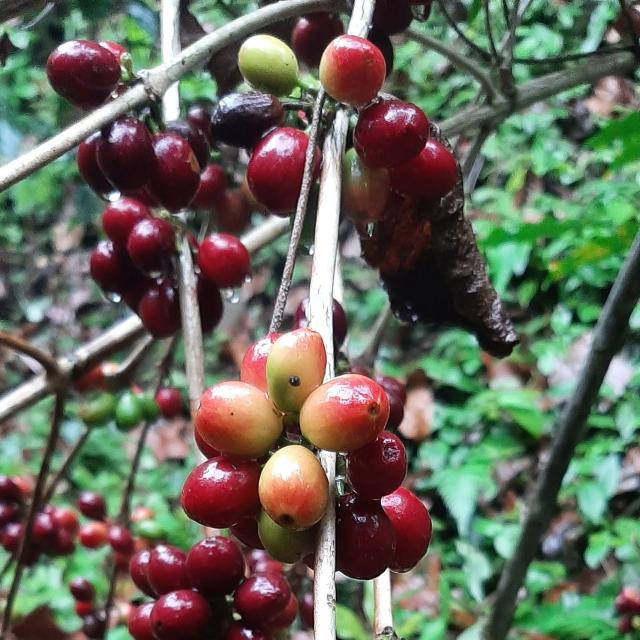Overripe: (211, 90, 285, 148)
Ripe: (180, 457, 261, 529), (247, 126, 309, 216), (336, 493, 396, 581), (354, 99, 429, 168), (390, 138, 460, 202), (381, 488, 433, 574), (346, 431, 408, 500), (186, 537, 244, 598), (234, 573, 291, 626), (196, 233, 250, 288), (150, 591, 210, 640), (194, 428, 221, 460)
Unripe: (299, 374, 390, 453), (194, 382, 283, 459), (258, 445, 329, 532), (266, 328, 327, 414), (320, 34, 386, 106), (238, 33, 299, 96), (342, 148, 391, 226)
